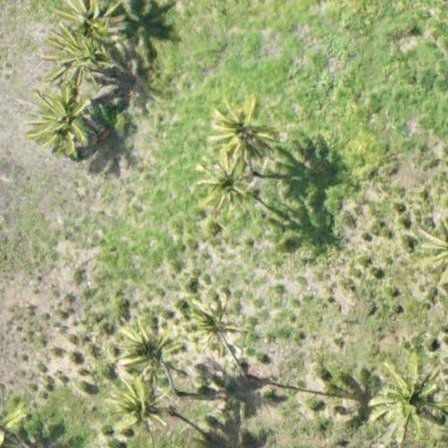palm_tree: (367, 348, 448, 437), (106, 308, 180, 387), (32, 88, 99, 159), (45, 28, 112, 91), (191, 146, 253, 212), (206, 98, 265, 161), (108, 381, 173, 437), (185, 298, 239, 353)
